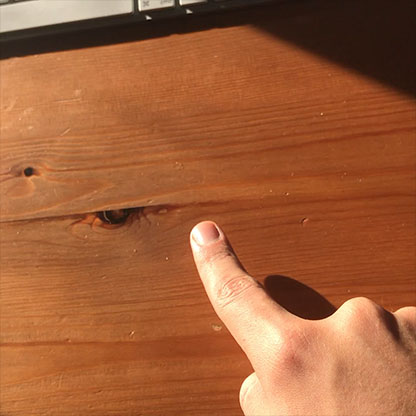fingertip: (183, 220, 234, 256)
